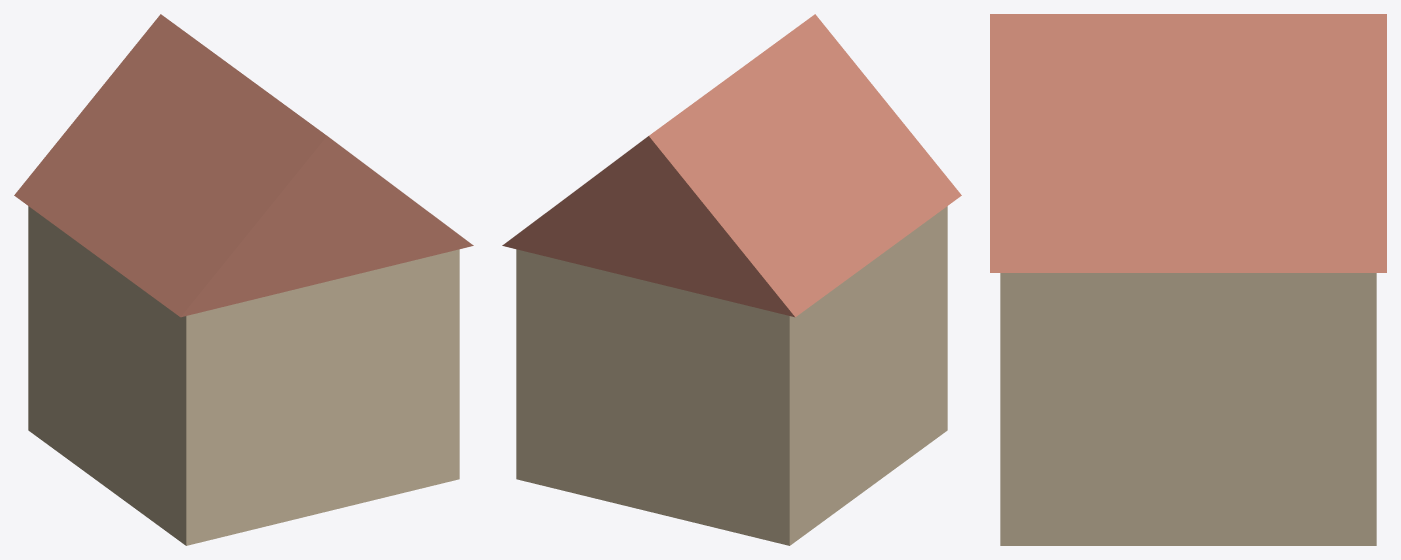
Rendered from Building_4.glb.
3 views of the same model, side by side, from view 1: azimuth 30°, elevation 25°; view 2: azimuth 150°, elevation 25°; view 3: azimuth 270°, elevation 25° (orthographic). The views are drawn at different scales.
Visible parts, largest first — view 1: Building_4; view 2: Building_4; view 3: Building_4.
Boxes of the visible parts, <box> form: Building_4: <box>14,14,473,545</box>; Building_4: <box>502,14,961,545</box>; Building_4: <box>990,14,1386,545</box>.
Bounding box in the file's own units: 5.9 × 7.3 × 5.8.
